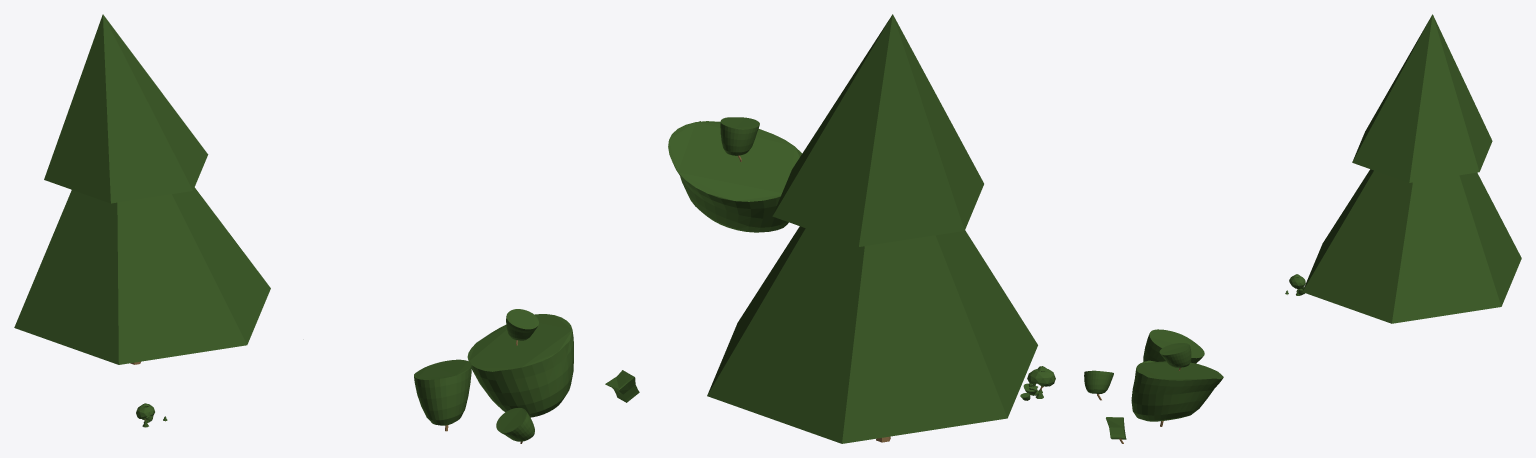
Rendered from christmas_tree.glb.
The picture shows the model from 3 angles, left to right: view 1: azimuth 30°, elevation 25°; view 2: azimuth 150°, elevation 25°; view 3: azimuth 270°, elevation 25°; orthographic projection. The views are drawn at different scales.
Parts seen in each view (by area): view 1: C-Cylinder#2, C-Sphere.002, C-Sphere, C-Sphere.001, C-Sphere.003, C-Cube.001; view 2: C-Cylinder#2, C-Sphere.002, C-Sphere.003, Icosphere#1.002; view 3: C-Cylinder#2, C-Sphere.002, C-Sphere, C-Sphere.003, C-Sphere.001.
Part boxes in pixels (left/top/right/bottom): C-Cylinder#2: left=14, top=14, right=270, bottom=364; C-Sphere.002: left=467, top=314, right=573, bottom=417; C-Sphere: left=414, top=359, right=471, bottom=425; C-Sphere.001: left=496, top=408, right=534, bottom=441; C-Sphere.003: left=506, top=309, right=538, bottom=340; C-Cube.001: left=605, top=370, right=639, bottom=402; C-Cylinder#2: left=707, top=14, right=1037, bottom=443; C-Sphere.002: left=668, top=121, right=802, bottom=232; C-Sphere.003: left=720, top=117, right=759, bottom=155; Icosphere#1.002: left=1027, top=368, right=1055, bottom=386; C-Cylinder#2: left=1302, top=14, right=1521, bottom=323; C-Sphere.002: left=1131, top=360, right=1223, bottom=421; C-Sphere: left=1143, top=329, right=1204, bottom=363; C-Sphere.003: left=1159, top=343, right=1191, bottom=367; C-Sphere.001: left=1084, top=370, right=1113, bottom=393.
Size of the model in its own units: 8.25 by 6.31 by 8.37.
